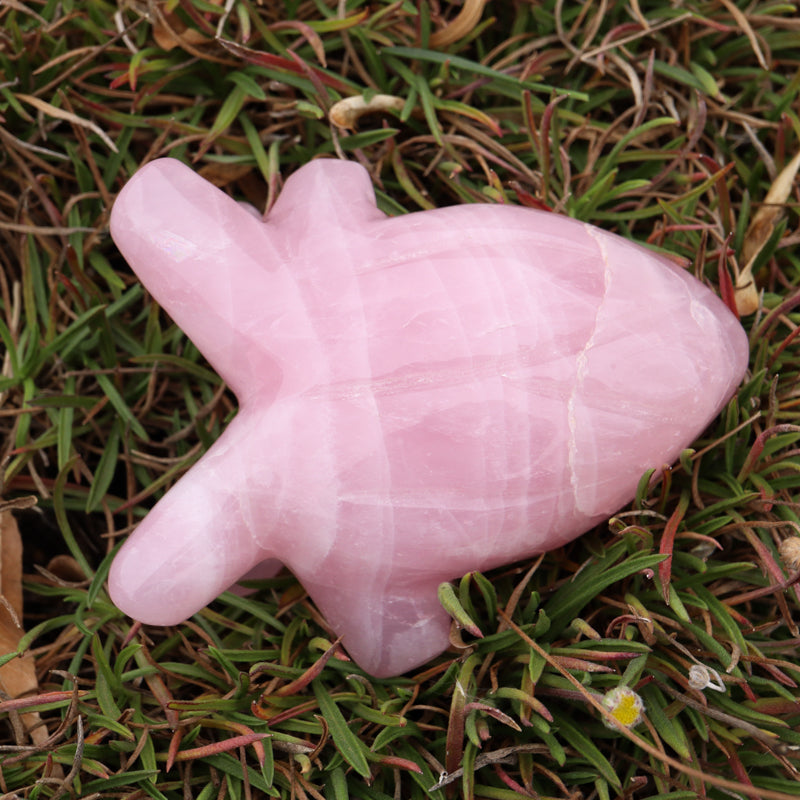Rose_Quartz: (104, 157, 752, 682)
